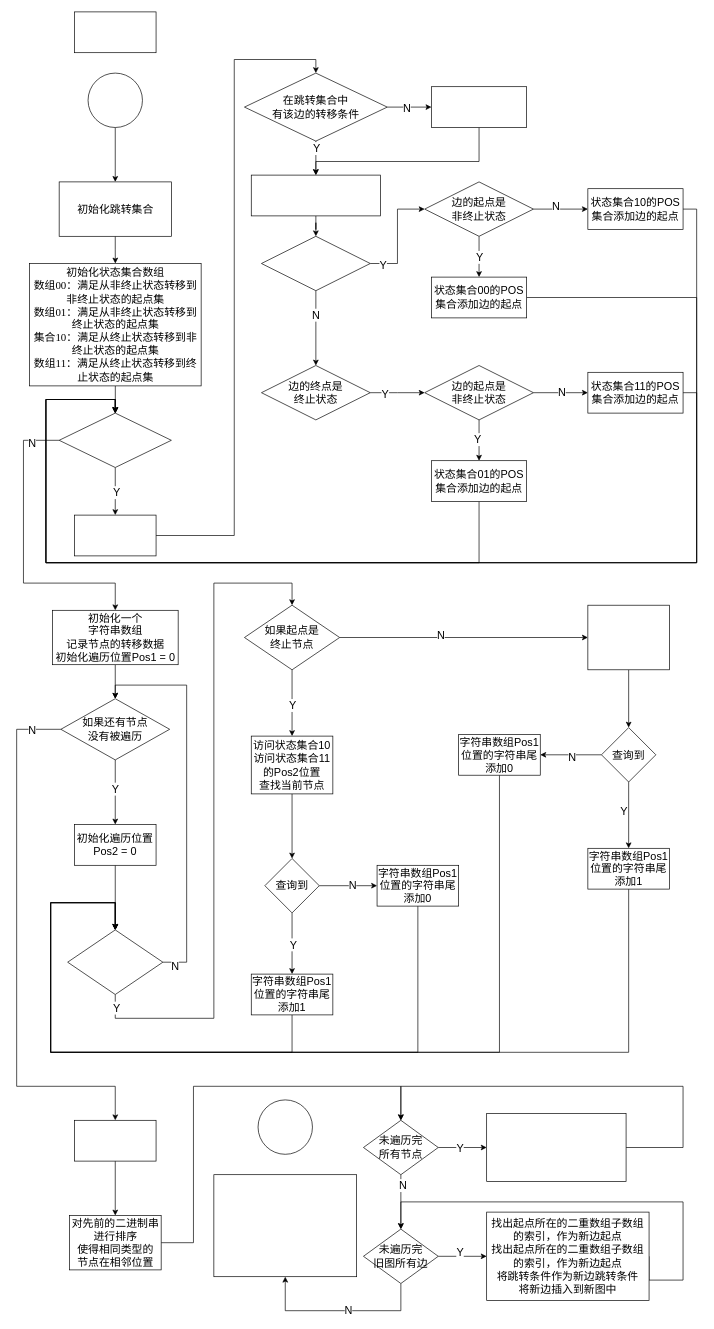
This 714x1329 diagram has some shape labels left out. The box of each missing label's shape, as (x1, y1, x2, y2) in pixels:
compressDFA: (74, 11, 156, 53)
创建新图 保存旧图 创建二重数组: (74, 1120, 156, 1161)
取节点相同的相邻几个点 添加到二重数组中 索引为新节点的编号 索引内容为包含的旧节点: (486, 1113, 626, 1182)
取边: (74, 514, 156, 556)
如果还有转移 条件未被遍历: (67, 929, 163, 995)
开始: (87, 72, 142, 128)
找出旧图起始状态所在的二重数组子数组的索引，作为新图起始状态 找出旧图所有终止状态所在的二重数组子数组的索引，作为新图终止状态: (213, 1174, 357, 1277)
把该边的转移条件添加进跳转集合 状态集合: (431, 86, 527, 128)
有边未被遍历: (58, 412, 171, 468)
结束: (257, 1099, 312, 1154)
记录下当前跳转 在跳转集合中的位置 POS: (251, 174, 380, 216)
访问状态集合00 访问状态集合01 的Pos2位置 查找当前节点: (587, 605, 669, 670)
边的终点是 非终止状态: (261, 236, 370, 291)
